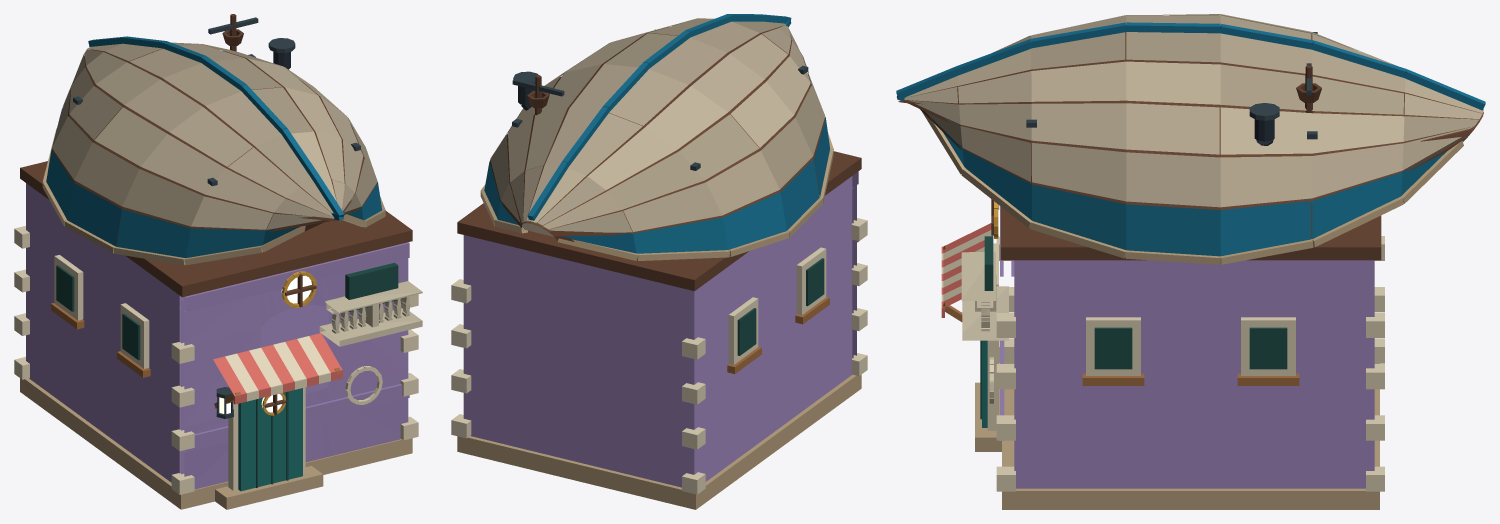
Rendered from net-loft-medium-lilac.glb.
3 views of the same model, side by side, from view 1: azimuth 30°, elevation 25°; view 2: azimuth 150°, elevation 25°; view 3: azimuth 270°, elevation 25° (orthographic). The views are drawn at different scales.
Visible parts, largest first — view 1: net-loft-medium-lilac; view 2: net-loft-medium-lilac; view 3: net-loft-medium-lilac.
Part boxes in pixels (left/top/right/bottom): net-loft-medium-lilac: left=14, top=14, right=422, bottom=509; net-loft-medium-lilac: left=451, top=14, right=867, bottom=509; net-loft-medium-lilac: left=896, top=14, right=1485, bottom=509.
Bounding box in the file's own units: 4.31 × 5.28 × 6.72.
